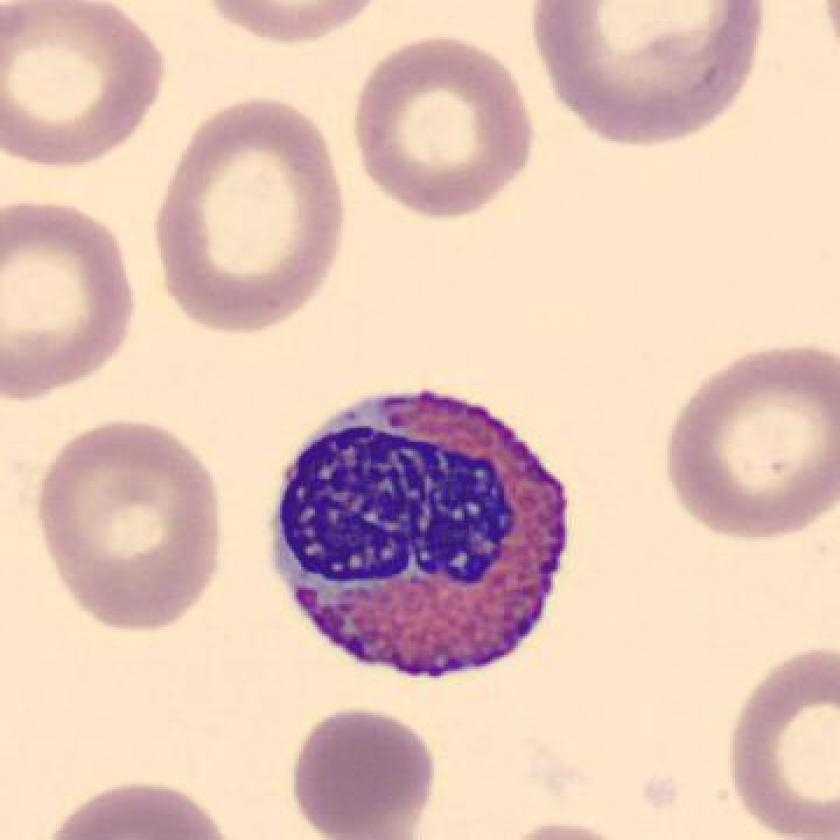eosinophil: (260, 378, 582, 691)
